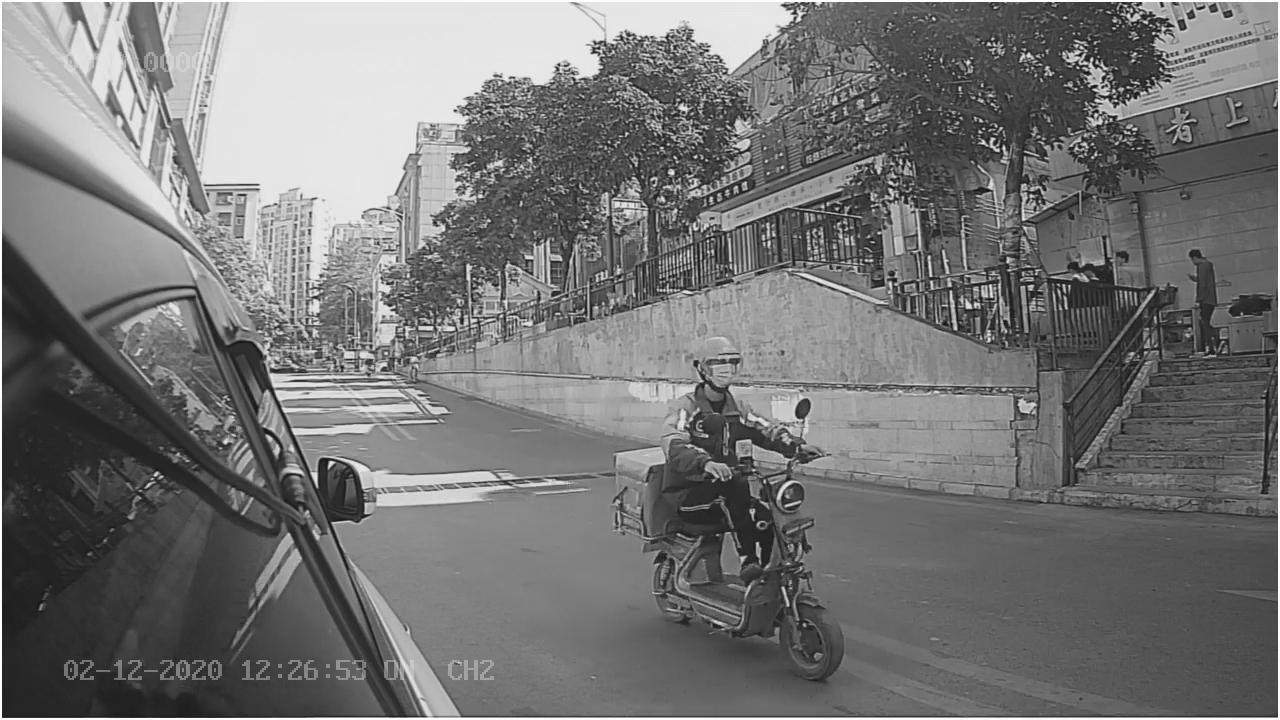person: (662, 327, 775, 479)
